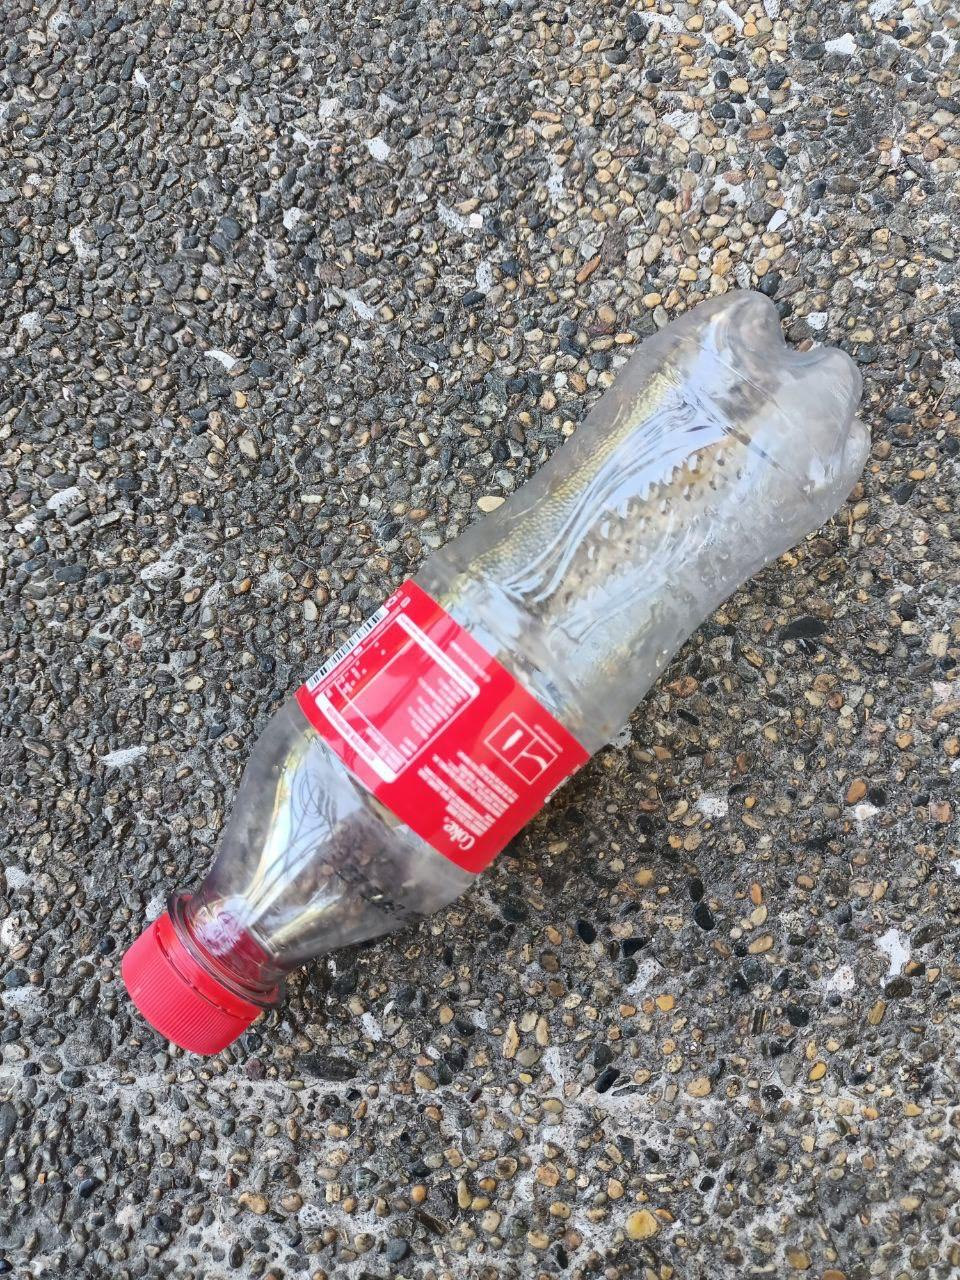plastic: (95, 269, 898, 1106)
